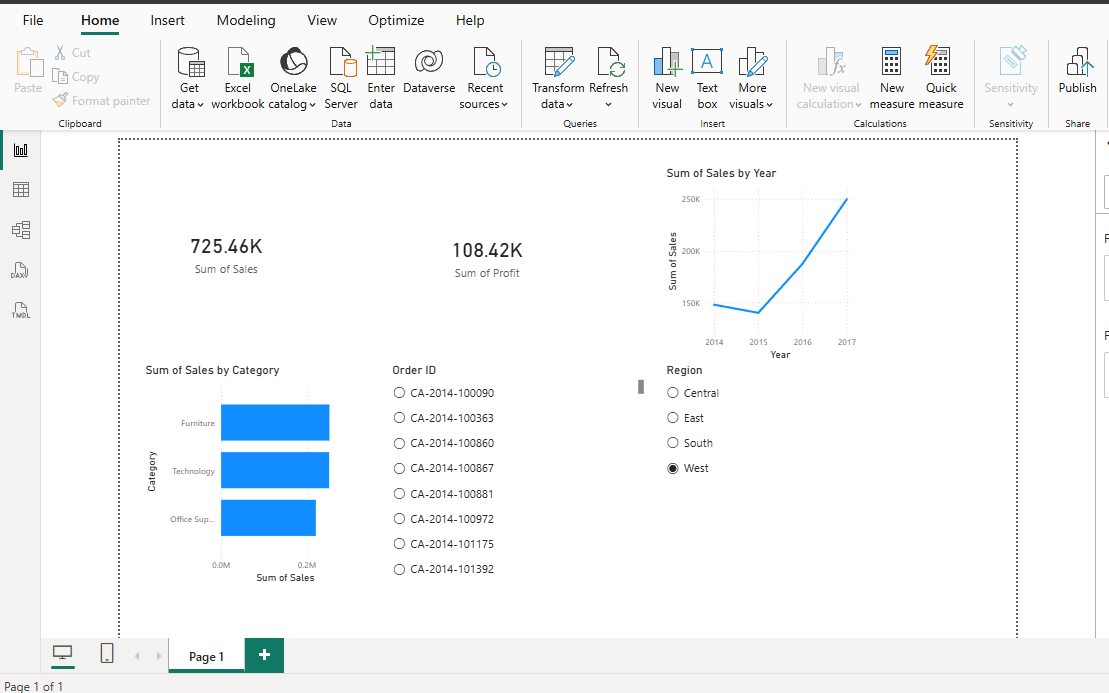

The page's visual inventory and layout, read from the dashboard file:
{"tool":"powerbi","page":{"name":"Page 1","canvas":[1280,720],"ordinal":0},"visuals":[{"type":"card","fields":{"Values":["Sum(Sample - Superstore.Sales)"]},"box":[11.8,0,280.5,319.2],"z":0},{"type":"card","fields":{"Values":["Sum(Sample - Superstore.Profit)"]},"box":[384.7,13.4,280.5,305.7],"z":1000},{"type":"lineChart","fields":{"Category":["Sample - Superstore.Order Date.Variation.Date Hierarchy.Year","Sample - Superstore.Order Date.Variation.Date Hierarchy.Quarter","Sample - Superstore.Order Date.Variation.Date Hierarchy.Month","Sample - Superstore.Order Date.Variation.Date Hierarchy.Day"],"Y":["Sum(Sample - Superstore.Sales)"]},"box":[776.1,37,280.5,282.2],"z":2000},{"type":"clusteredBarChart","fields":{"Y":["Sum(Sample - Superstore.Sales)"],"Category":["Sample - Superstore.Category"]},"box":[31.9,319.2,315.8,319.2],"z":3000},{"type":"listSlicer","fields":{"Values":["Sample - Superstore.Order ID"]},"box":[384.7,319.2,369.6,319.2],"z":4000},{"type":"listSlicer","fields":{"Values":["Sample - Superstore.Region"]},"box":[776.1,319.2,378,319.2],"z":5000}]}

Visuals, with their boxes on the page's 1280x720 design canvas (x1, y1, x2, y2). These are canvas units, not pixel positions in the 1109x693 screenshot, which may show the page scaled, cropped or inside an application window:
card - Sum(Sample - Superstore.Sales): box=[12, 0, 292, 319]
card - Sum(Sample - Superstore.Profit): box=[385, 13, 665, 319]
lineChart - Sample - Superstore.Order Date.Variation.Date Hierarchy.Year x Sample - Superstore.Order Date.Variation.Date Hierarchy.Quarter: box=[776, 37, 1057, 319]
clusteredBarChart - Sum(Sample - Superstore.Sales) x Sample - Superstore.Category: box=[32, 319, 348, 638]
listSlicer - Sample - Superstore.Order ID: box=[385, 319, 754, 638]
listSlicer - Sample - Superstore.Region: box=[776, 319, 1154, 638]
